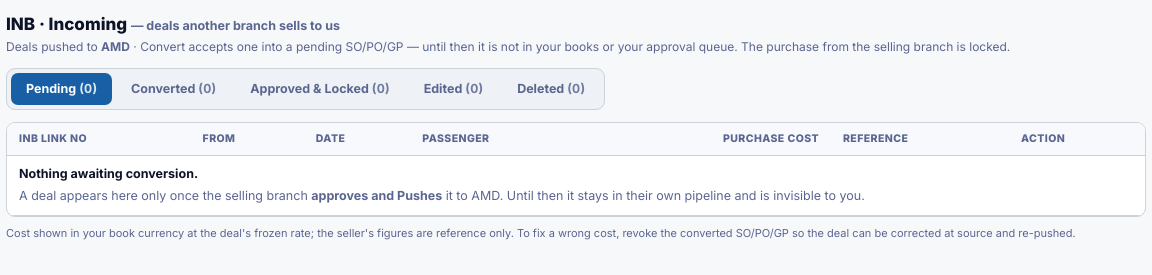
Test case: every empty tab explains itself — never a bare "nothing here"
Click the tab "Approved & Locked (0)" at (320, 89), box [235, 72, 405, 105]
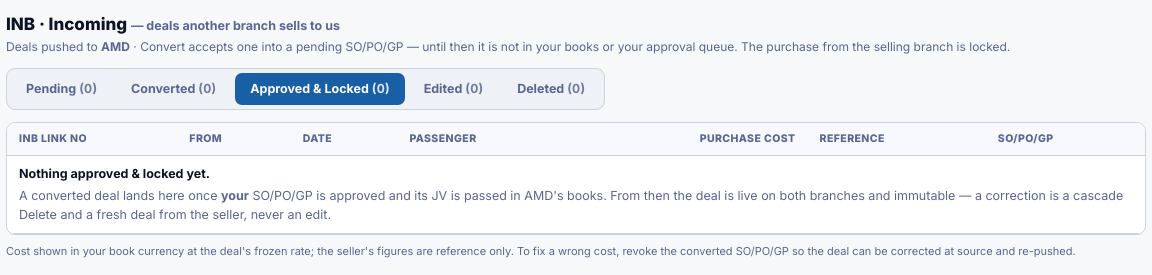
Check: the text "JV is passed" is shown, box [249, 188, 524, 203]
Click the tab "Deleted (0)" at (551, 89), box [502, 72, 600, 105]
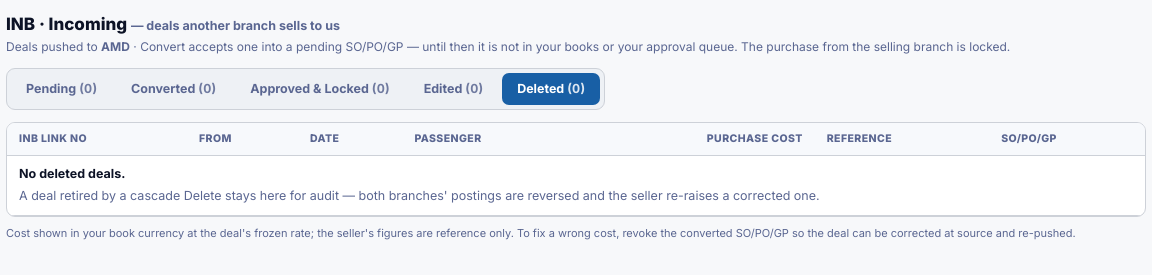
Check: the text "cascade Delete" is shown, box [19, 188, 820, 203]
Click the tab "Edited (0)" at (453, 89), box [409, 72, 498, 105]
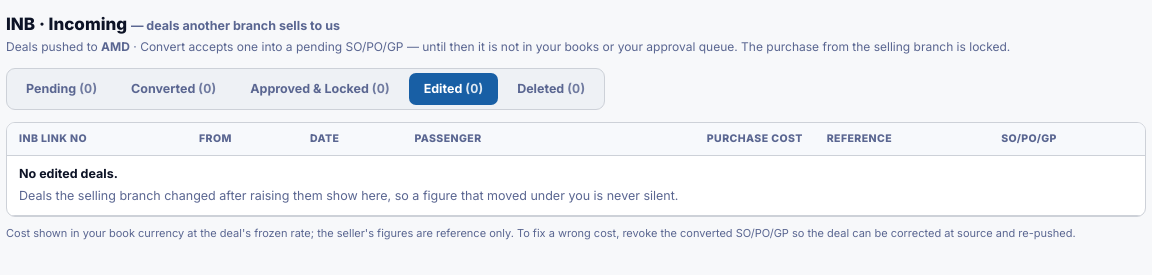
Check: the text "changed after raising them" is shown, box [19, 188, 678, 203]
